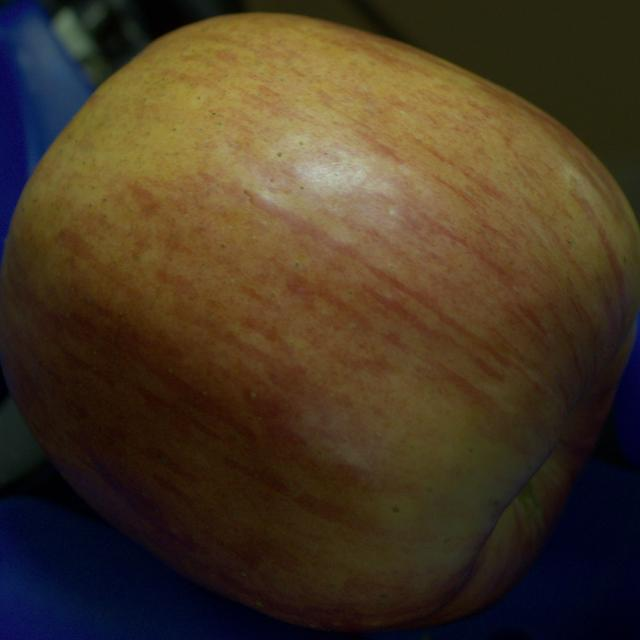apple: (0, 13, 639, 631)
